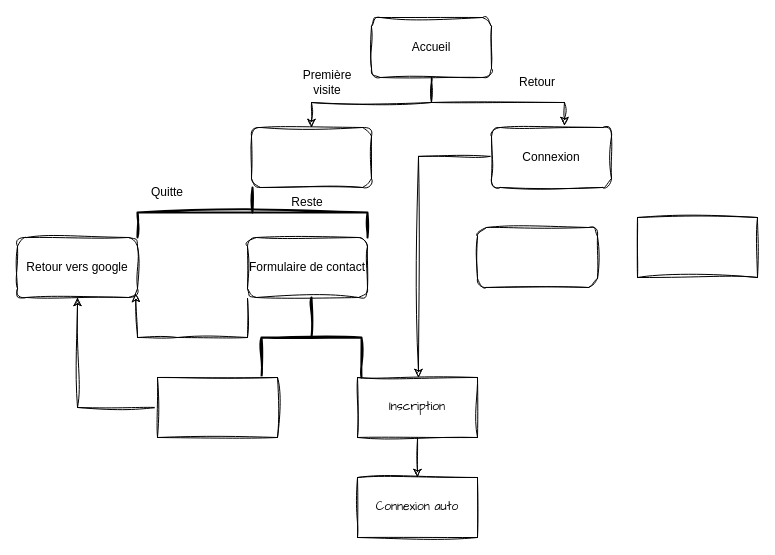
The diagram is 775 pixels wide and 555 high, and some of its shapes have lost their labels. Each missing label, with the centre of its shape:
"Newsletter" belongs at point (217, 407).
"Nos salons" belongs at point (311, 157).
"Réinitialisation" belongs at point (537, 257).
